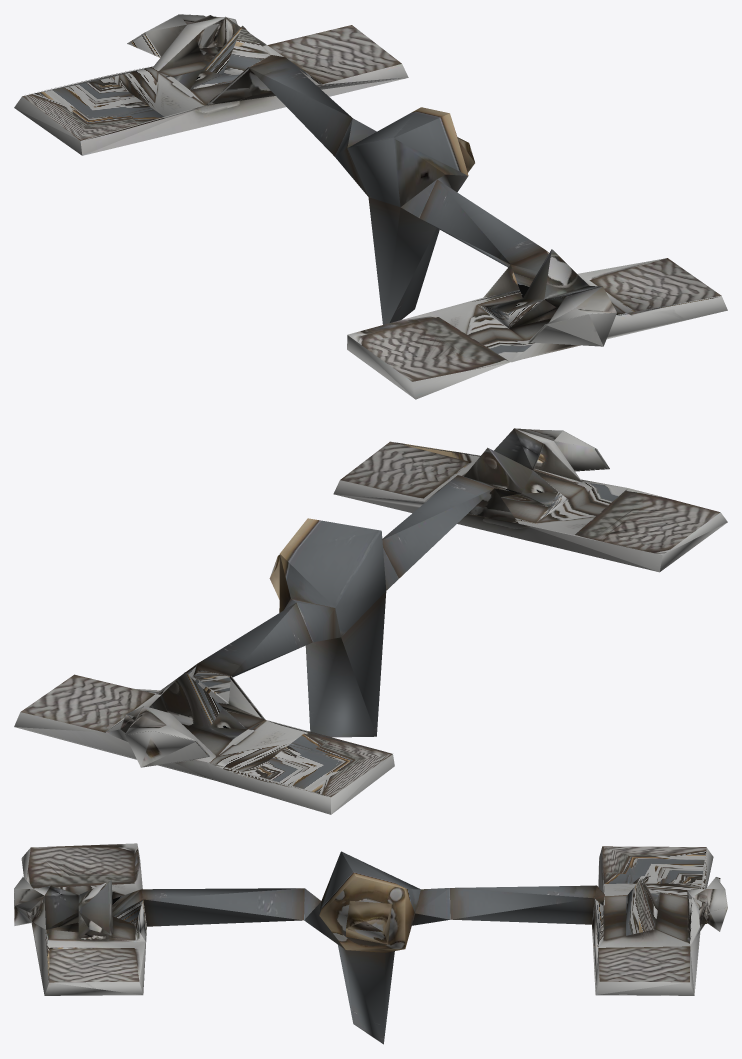
File: pedals.glb
The picture shows the model from 3 angles, top to bottom: view 1: azimuth 30°, elevation 25°; view 2: azimuth 150°, elevation 25°; view 3: azimuth 270°, elevation 25°; orthographic projection. The views are drawn at different scales.
Visible parts, largest first — view 1: tripo_node_a41750db-d9ce-403a-884e-e7284; view 2: tripo_node_a41750db-d9ce-403a-884e-e7284; view 3: tripo_node_a41750db-d9ce-403a-884e-e7284.
Part boxes in pixels (x1=…): tripo_node_a41750db-d9ce-403a-884e-e7284: x1=14, y1=14, x2=727, y2=399; tripo_node_a41750db-d9ce-403a-884e-e7284: x1=14, y1=428, x2=727, y2=814; tripo_node_a41750db-d9ce-403a-884e-e7284: x1=14, y1=843, x2=727, y2=1044.
Size of the model in its own units: 0.4518 by 0.2673 by 0.9826.
1 material, 1 textured.
